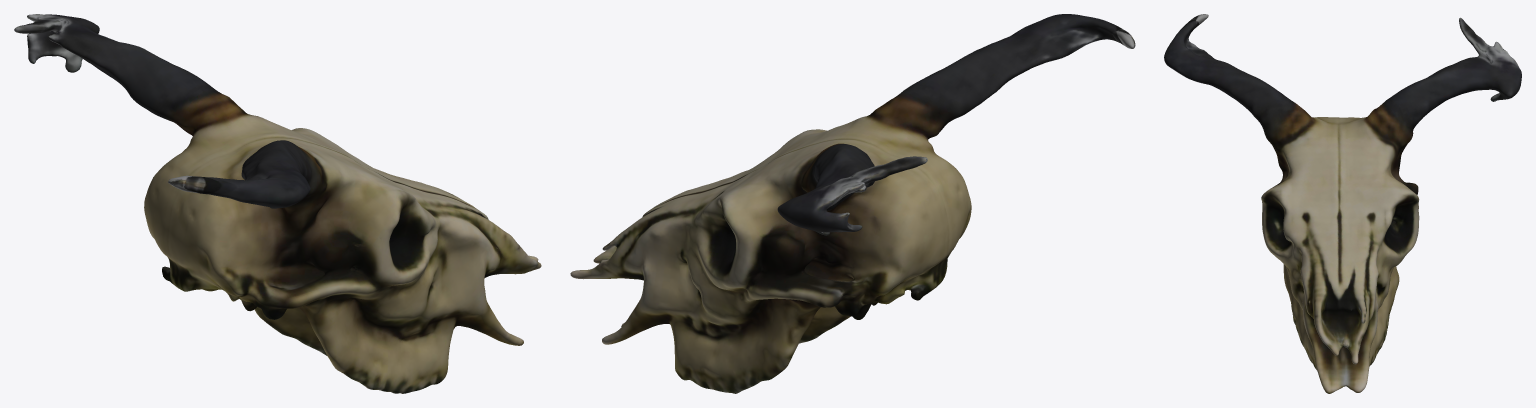
File: 9d0d4ba2b477_horned_animal_skull.fbx
The picture shows the model from 3 angles, left to right: view 1: azimuth 30°, elevation 25°; view 2: azimuth 150°, elevation 25°; view 3: azimuth 270°, elevation 25°; orthographic projection. The views are drawn at different scales.
Visible parts, largest first — view 1: high_poly; view 2: high_poly; view 3: high_poly.
Part boxes in pixels (<box>): high_poly: <box>14,14,541,393</box>; high_poly: <box>570,14,1135,393</box>; high_poly: <box>1164,14,1521,393</box>.
Bounding box in the file's own units: 100 × 72.18 × 94.29.
